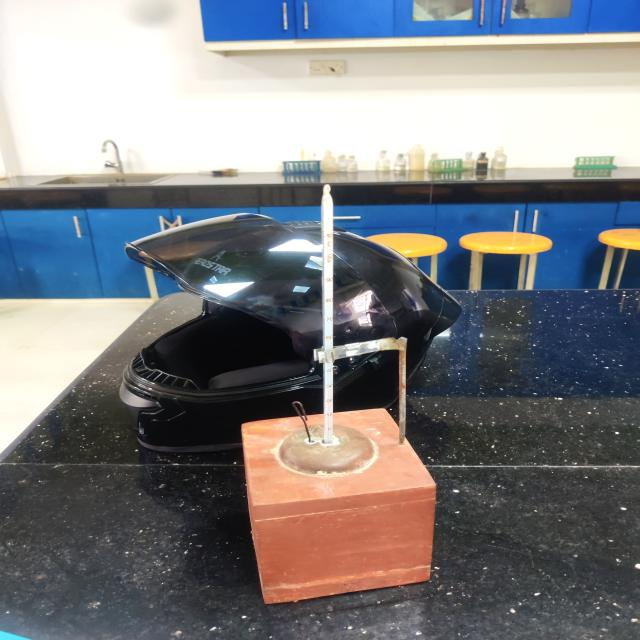Calorimeter: (224, 158, 459, 629)
